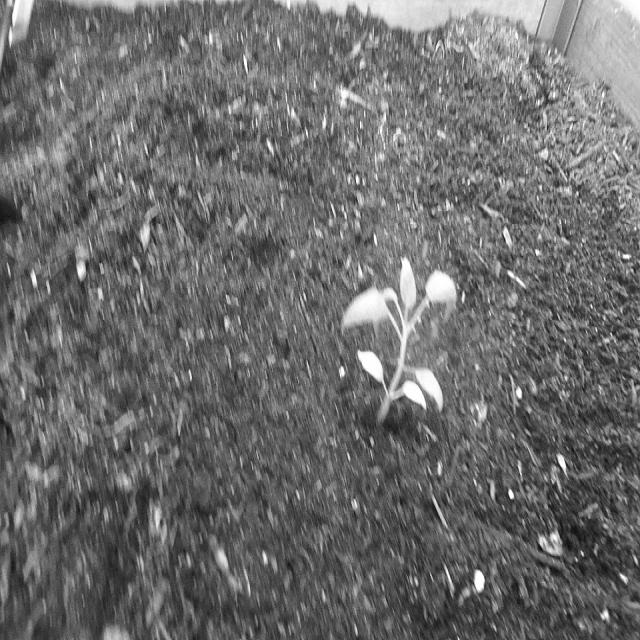Healthy: (334, 244, 462, 436)
